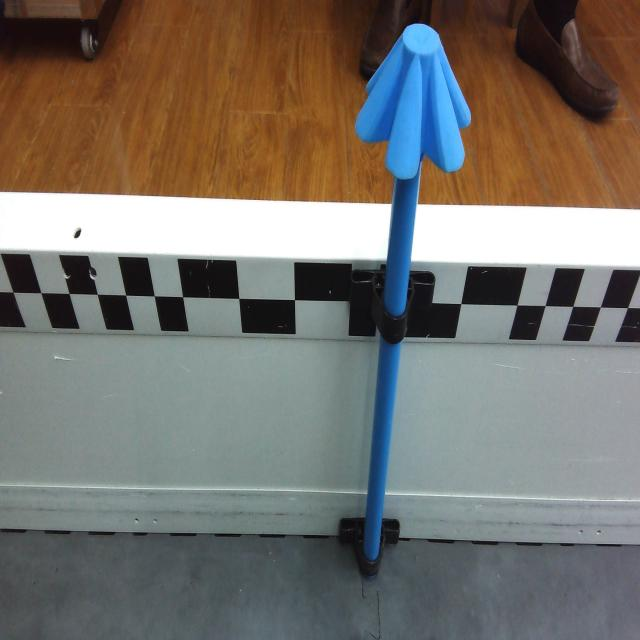zblue-Stake-Head: (355, 23, 473, 181)
